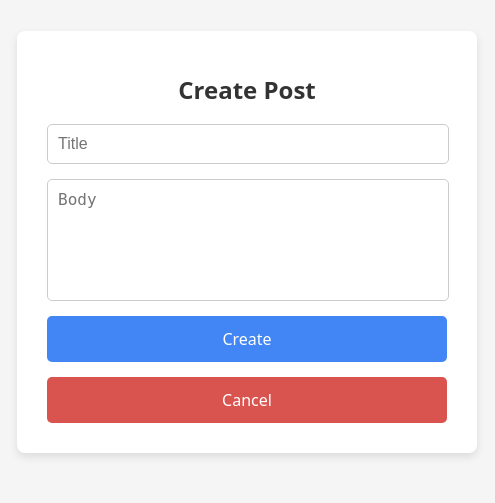
Test: CreatePost Page › creates a post successfully
Type "New Post" into the field with placeholder "Title" at (248, 144), box x1=47 y1=124 x2=449 y2=164
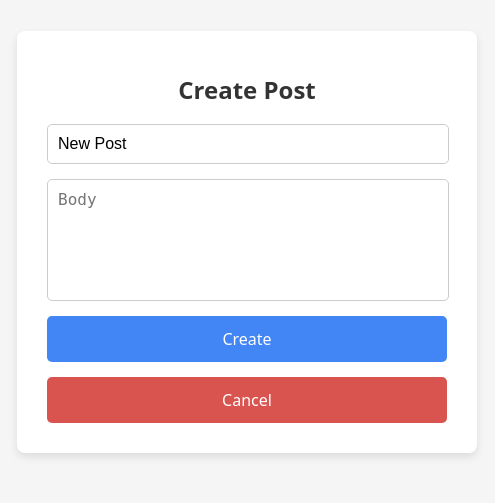
Type "Post content" into the text box with placeholder "Body" at (248, 240), box x1=47 y1=179 x2=449 y2=301
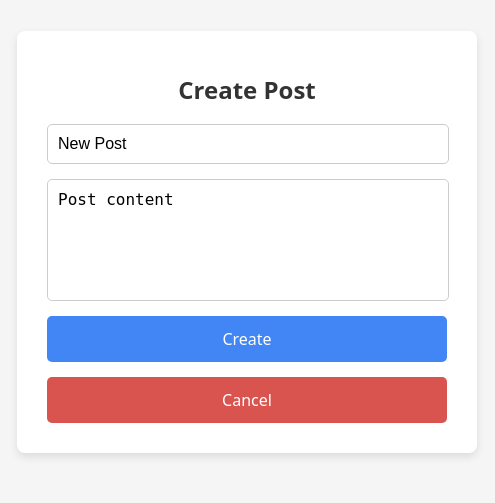
Click the button "Create" at (247, 339), box x1=47 y1=316 x2=447 y2=362
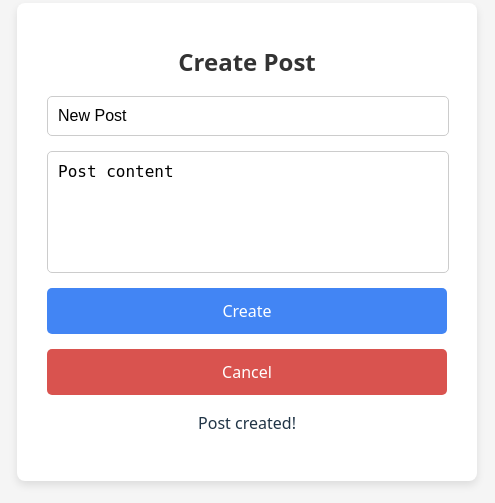
Expected: the text "Post created!" is shown, x1=198 y1=412 x2=296 y2=434
